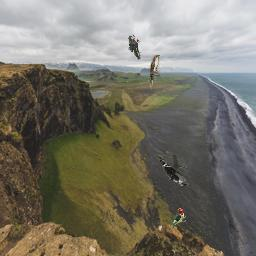Cuckoo: (156, 155, 189, 186), (150, 55, 160, 90)
Woodpecker: (128, 33, 142, 60), (171, 208, 186, 228)
